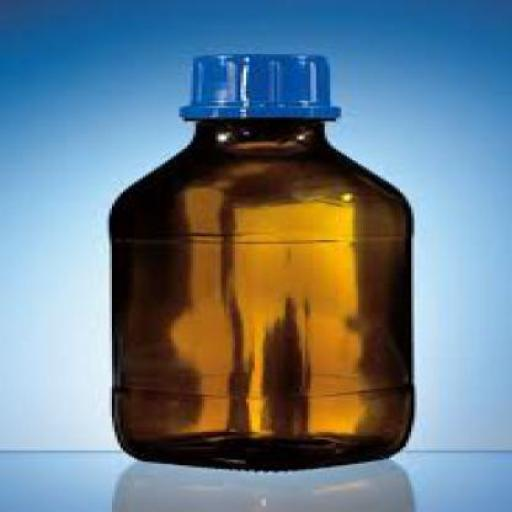glass: (109, 119, 414, 469)
plastic: (176, 50, 336, 117)
